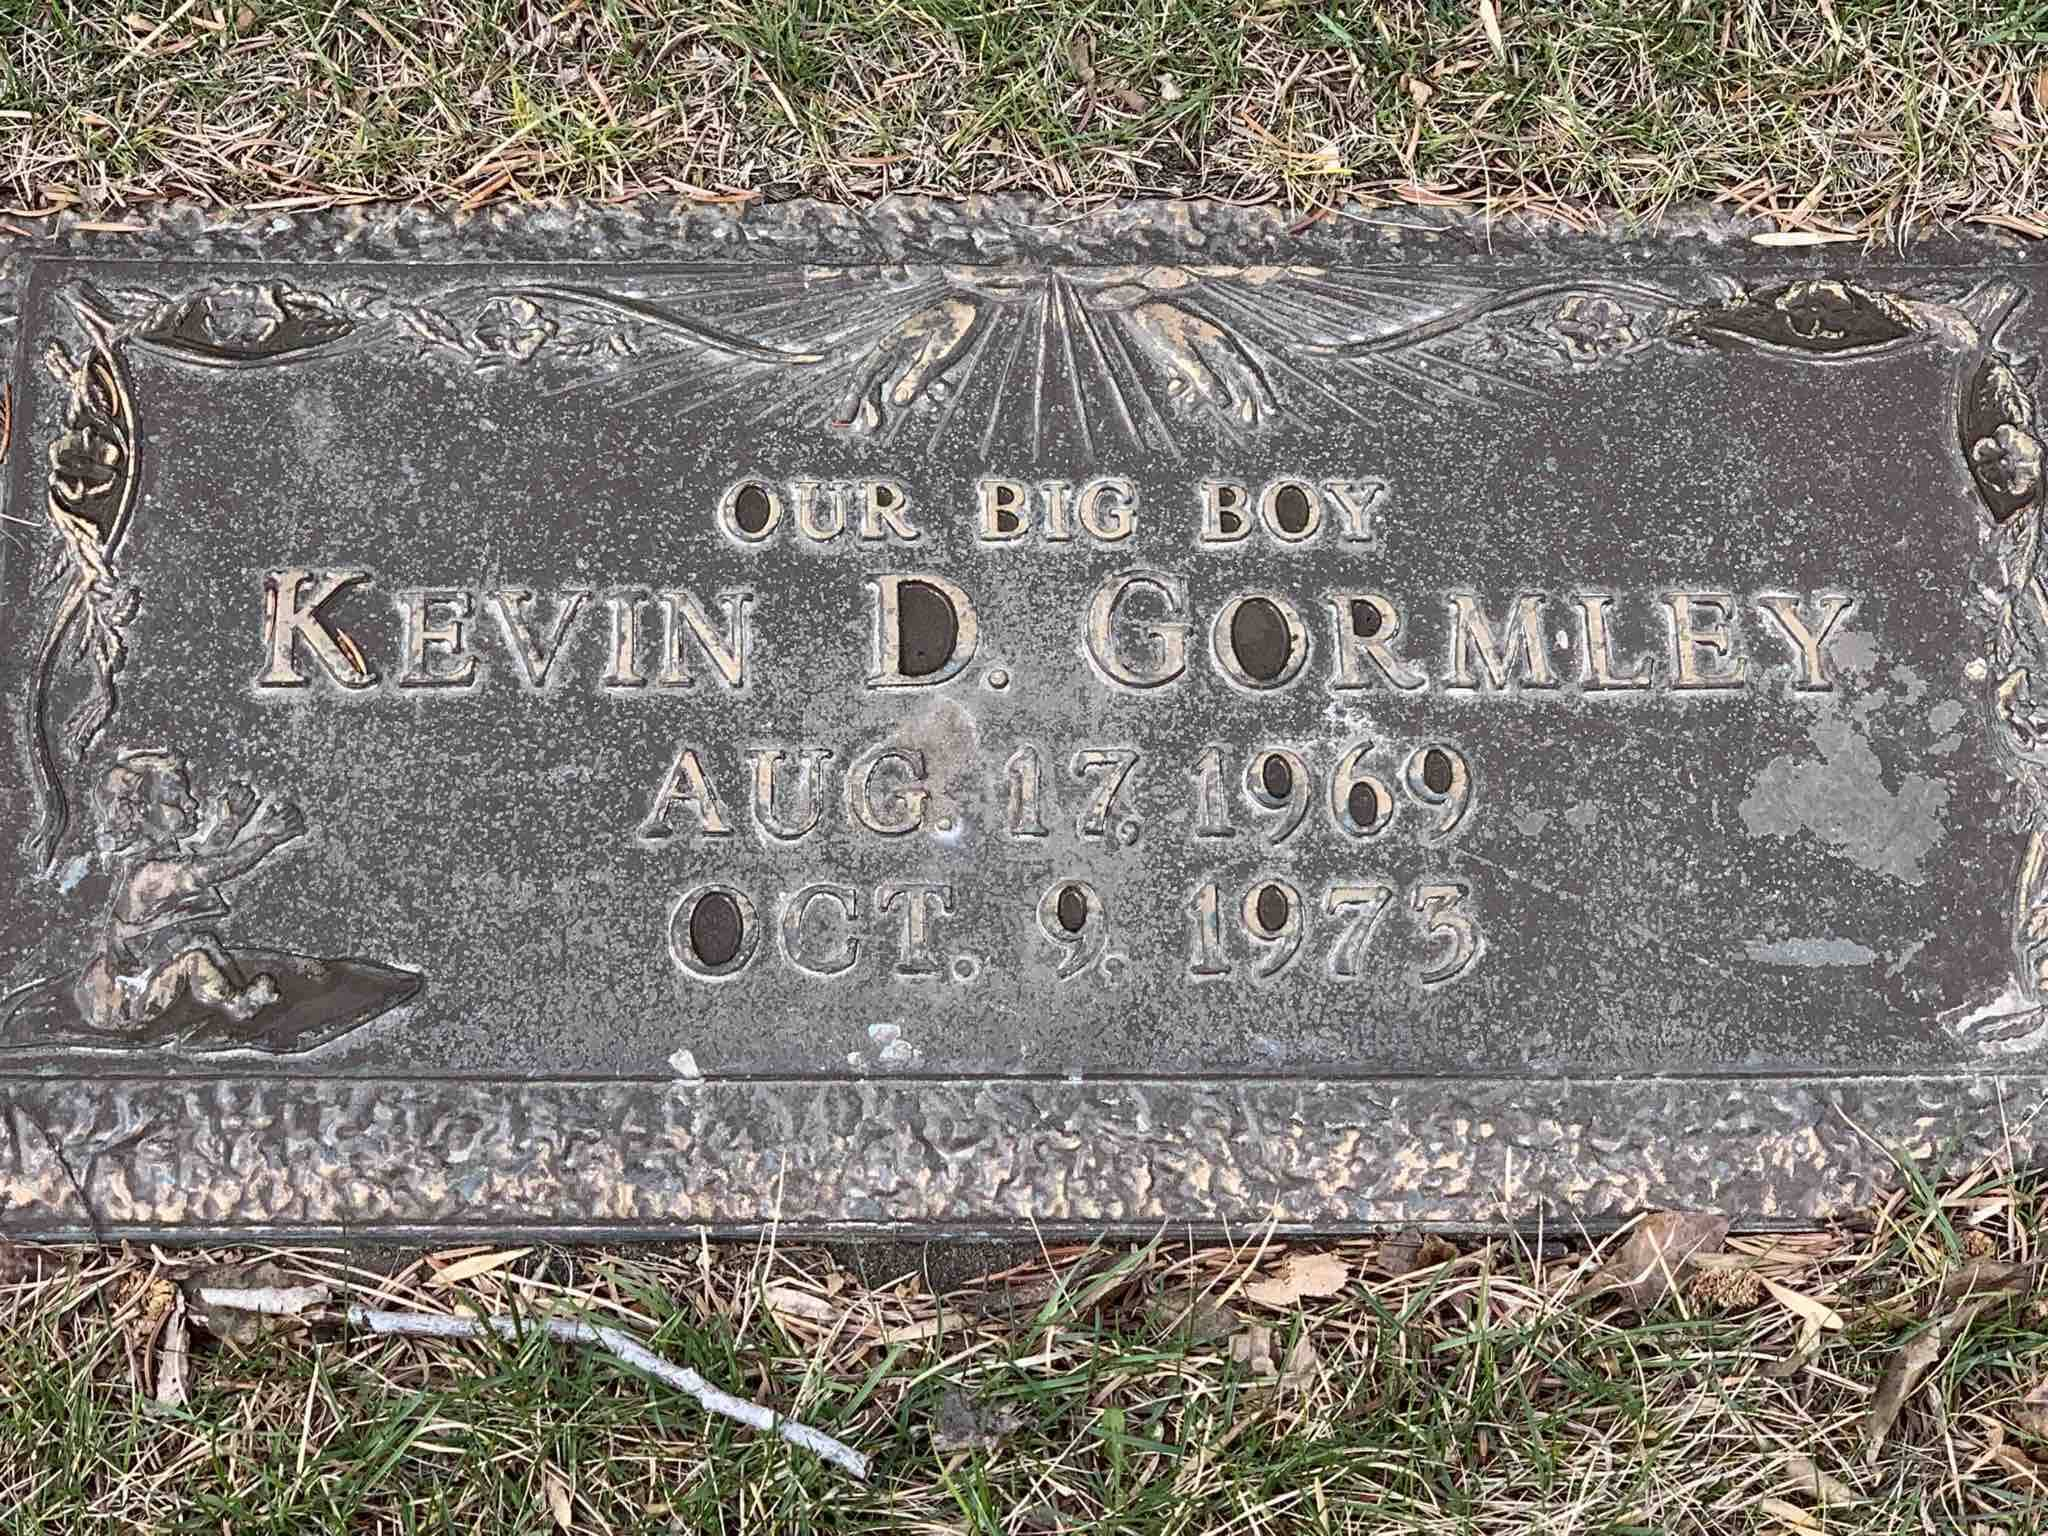flat: (18, 173, 2014, 1271)
